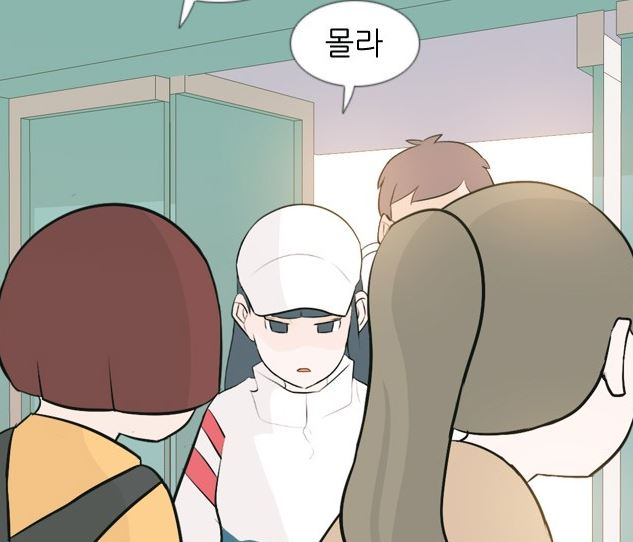hat: (236, 202, 364, 316)
